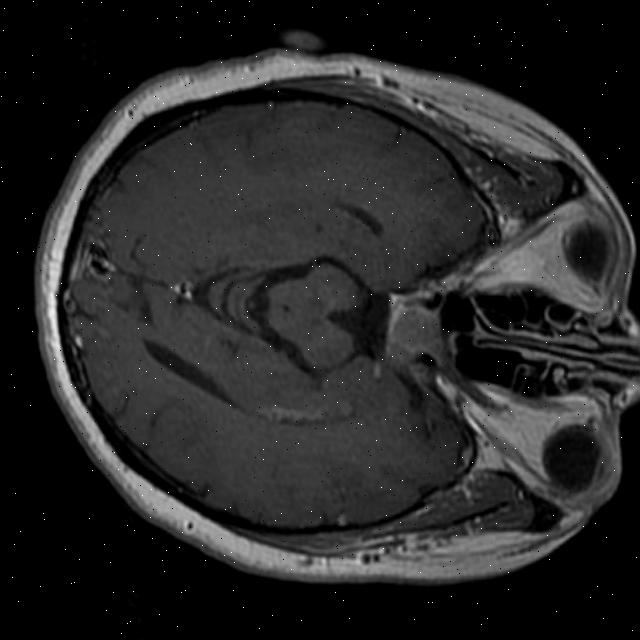Pituitary: (383, 300, 446, 358)
